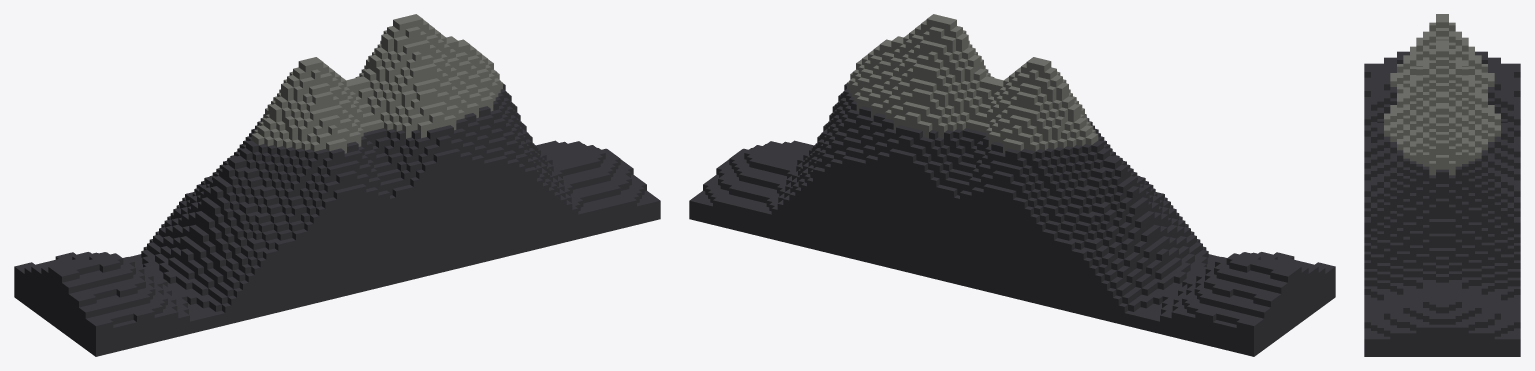
The model's file is ridge_volcanic_c.obj.
3 views of the same model, side by side, from view 1: azimuth 30°, elevation 25°; view 2: azimuth 150°, elevation 25°; view 3: azimuth 270°, elevation 25° (orthographic). The views are drawn at different scales.
Bounding box in the file's own units: 9.6 × 3.6 × 2.4.
Materials: 1 (1 with a texture image).
